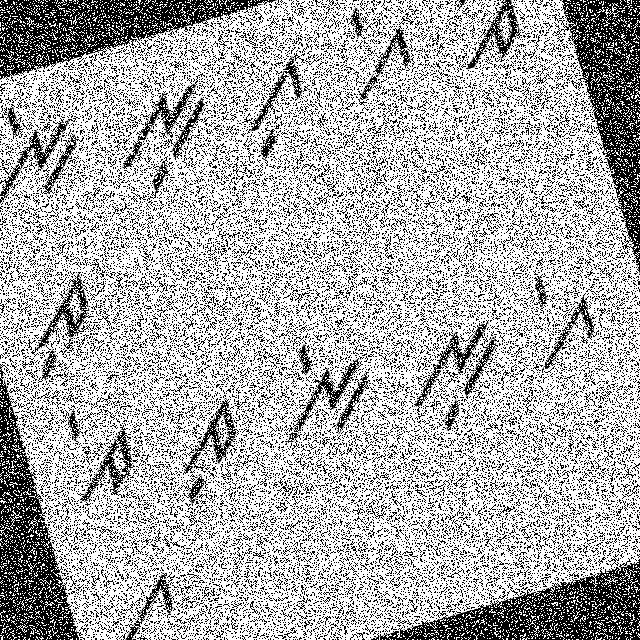ge: (508, 250, 614, 386), (318, 0, 433, 110)
gu: (227, 38, 331, 165), (90, 552, 204, 639)
nge: (243, 320, 390, 460), (0, 75, 98, 212)
ngu: (391, 306, 521, 444), (101, 68, 230, 204)
te: (42, 390, 146, 510), (434, 0, 539, 78)
tu: (5, 256, 120, 388), (162, 392, 258, 508)
